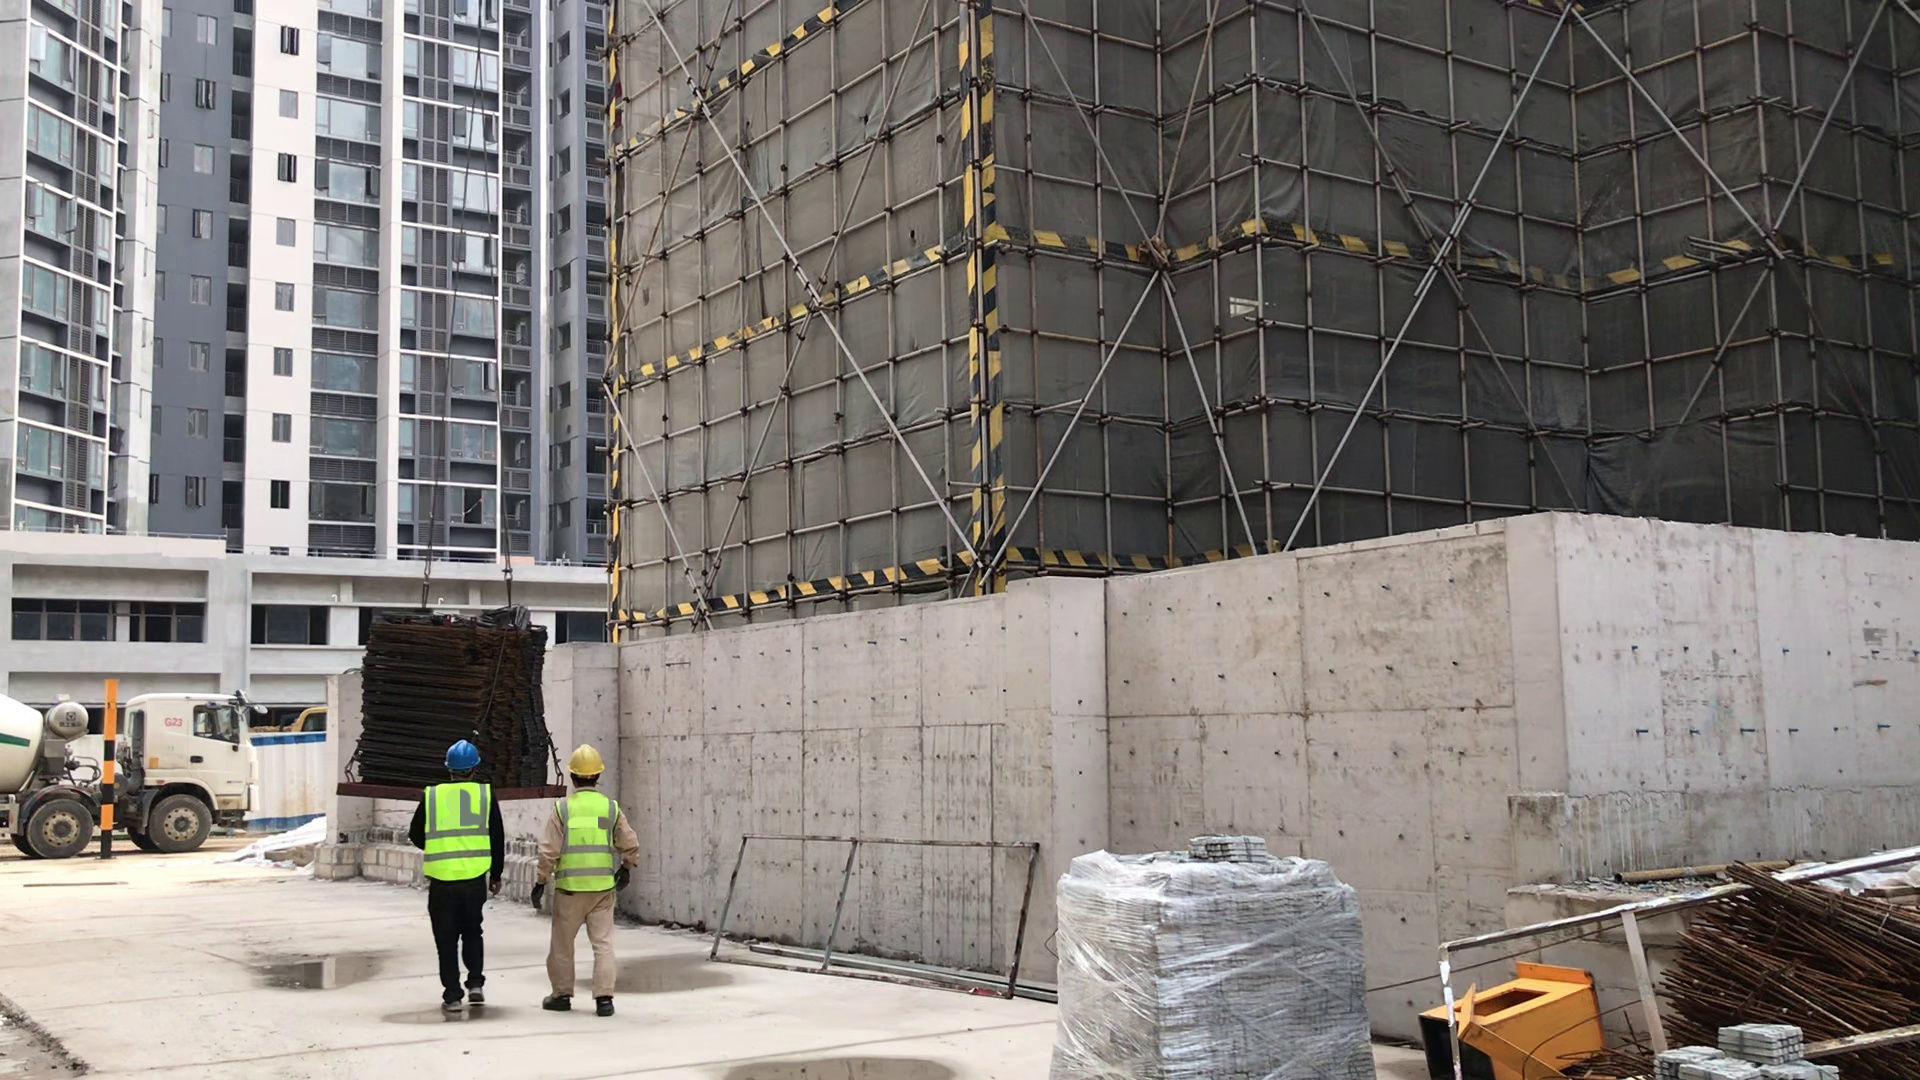helmet: (443, 734, 502, 776), (563, 745, 611, 788)
person: (418, 733, 513, 1006), (549, 730, 637, 1020)
vest: (427, 778, 501, 882), (555, 788, 618, 891)
